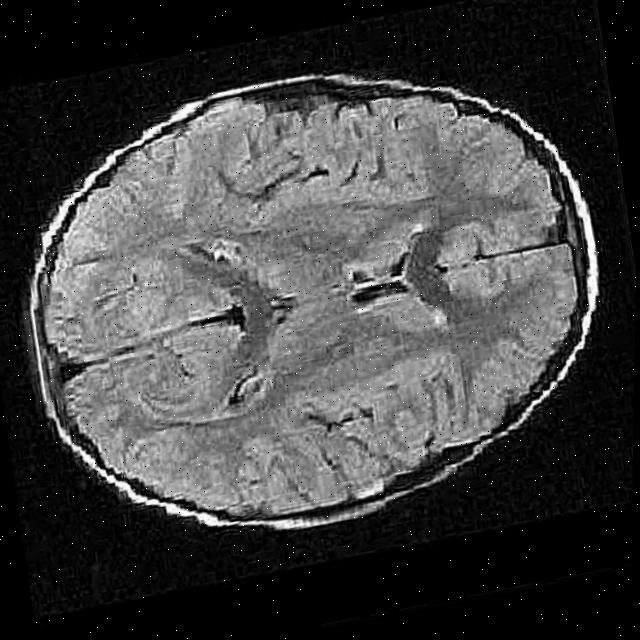NoTumor: (0, 17, 638, 582)
